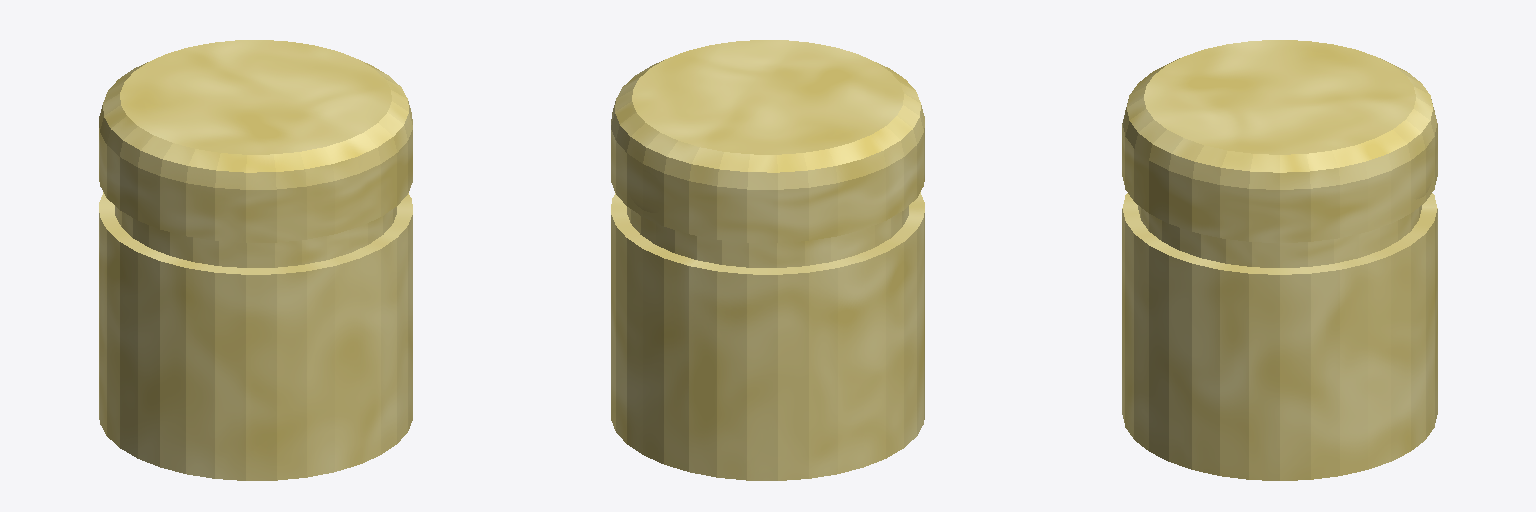
The picture shows the model from 3 angles: view 1: azimuth 30°, elevation 25°; view 2: azimuth 150°, elevation 25°; view 3: azimuth 270°, elevation 25°; orthographic projection.
Visible parts, largest first — view 1: wscf_Cylinder; view 2: wscf_Cylinder; view 3: wscf_Cylinder.
Boxes of the visible parts, <box> form: wscf_Cylinder: <box>99,40,412,480</box>; wscf_Cylinder: <box>611,40,924,480</box>; wscf_Cylinder: <box>1122,40,1437,480</box>.
Bounding box in the file's own units: 0.18 × 0.2 × 0.18.
1 materials, 1 textured.